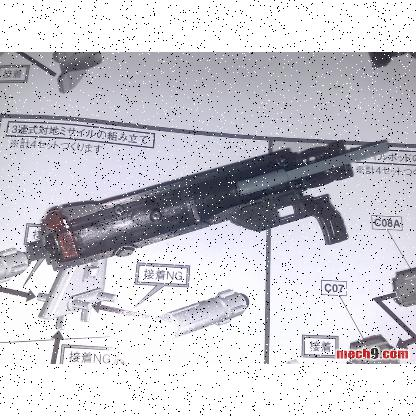gun: (26, 139, 388, 271)
